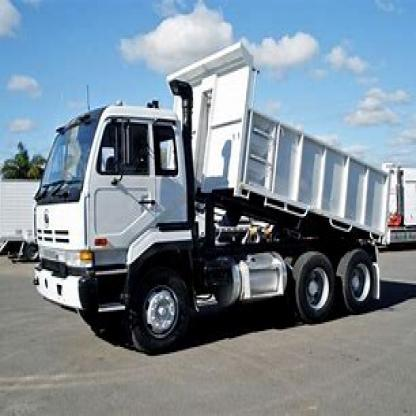dump_truck: (25, 34, 386, 354)
